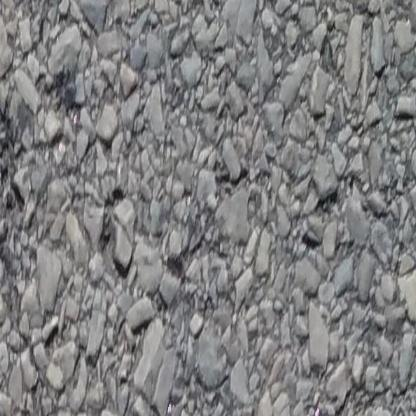Cracks: (0, 0, 68, 416)
